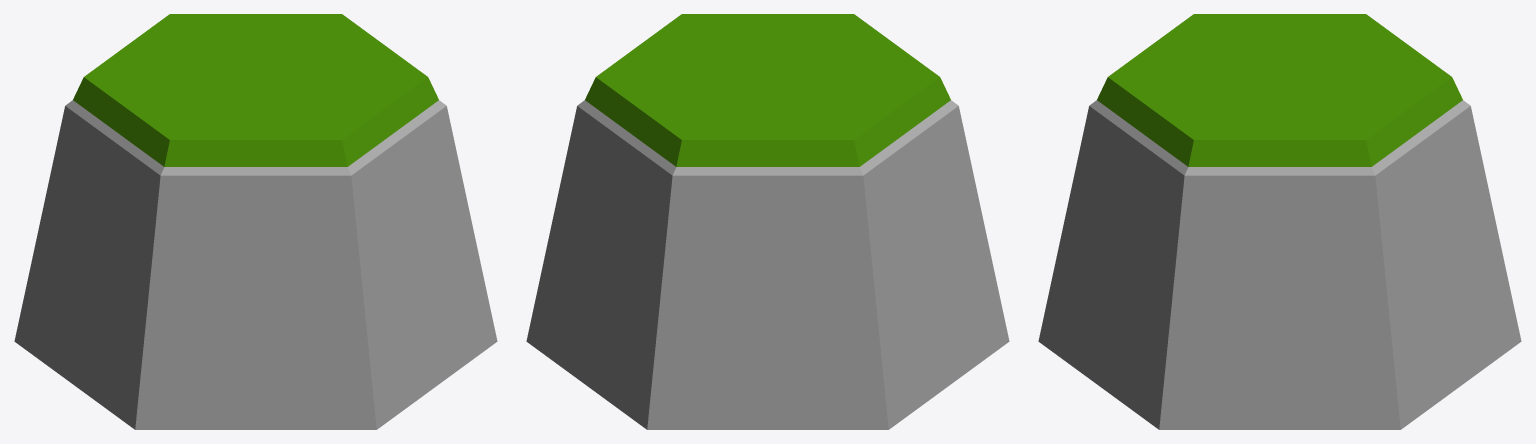
The model's file is RPG_Tiles_Hex_Rock_Moss_Small_01.FBX.
3 renders of one model, left to right at view 1: azimuth 30°, elevation 25°; view 2: azimuth 150°, elevation 25°; view 3: azimuth 270°, elevation 25°, orthographic.
Visible parts, largest first — view 1: RPG_Tiles_Hex_Rock_Moss_Small_01; view 2: RPG_Tiles_Hex_Rock_Moss_Small_01; view 3: RPG_Tiles_Hex_Rock_Moss_Small_01.
Boxes of the visible parts, x1,y1,x2,y2 form: RPG_Tiles_Hex_Rock_Moss_Small_01: [14, 14, 497, 429]; RPG_Tiles_Hex_Rock_Moss_Small_01: [526, 14, 1009, 429]; RPG_Tiles_Hex_Rock_Moss_Small_01: [1038, 14, 1521, 429].
Size of the model in its own units: 1173 by 819 by 1355.
